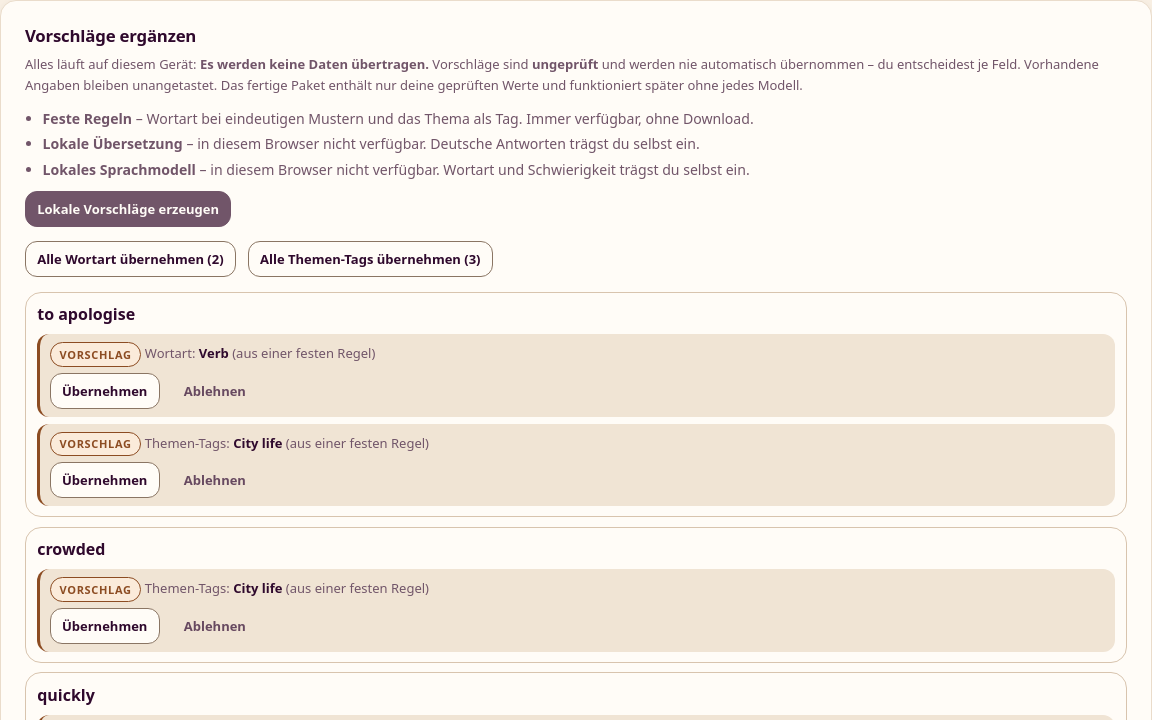
Test: Sammelaktionen › nennt die Anzahl und meldet die Übernahme
The image size is (1152, 720).
Expected: the text "Verb" is shown, top-left (199, 345), bottom-right (229, 363)
Click the button "Alle Themen-Tags übernehmen (3)" at (370, 260), box top-left (248, 242), bottom-right (493, 278)
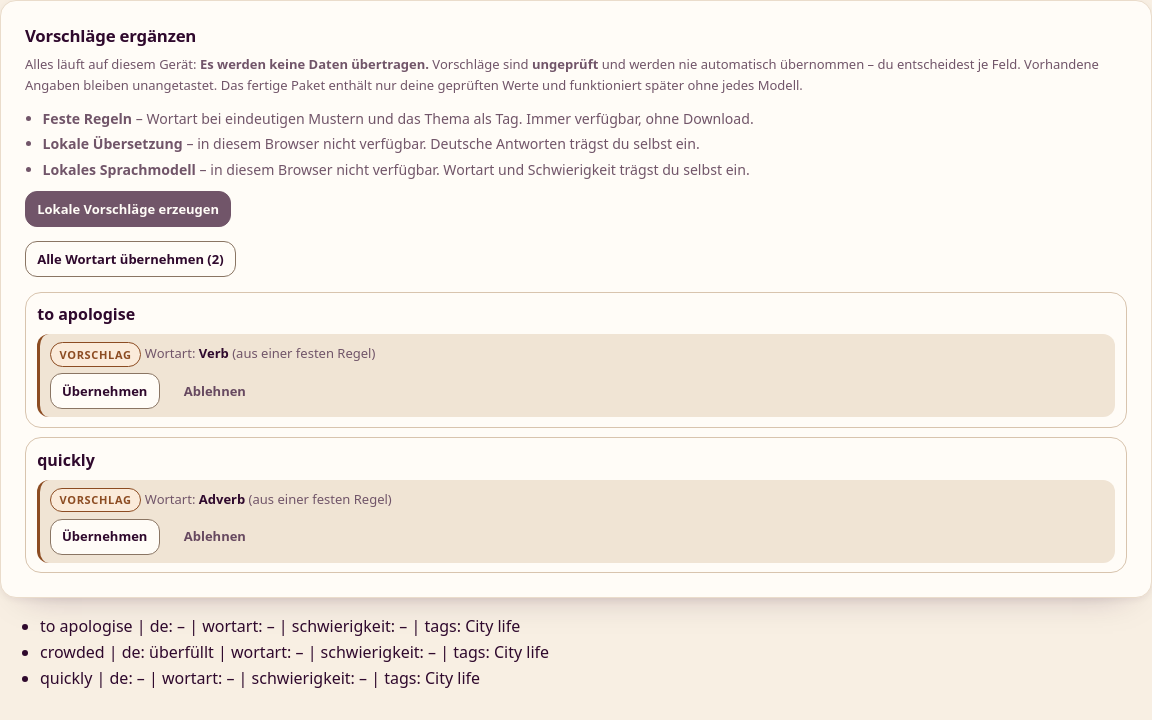
Now the list item that starts with "crowded" shows "tags: City life", box top-left (40, 641), bottom-right (549, 663)
